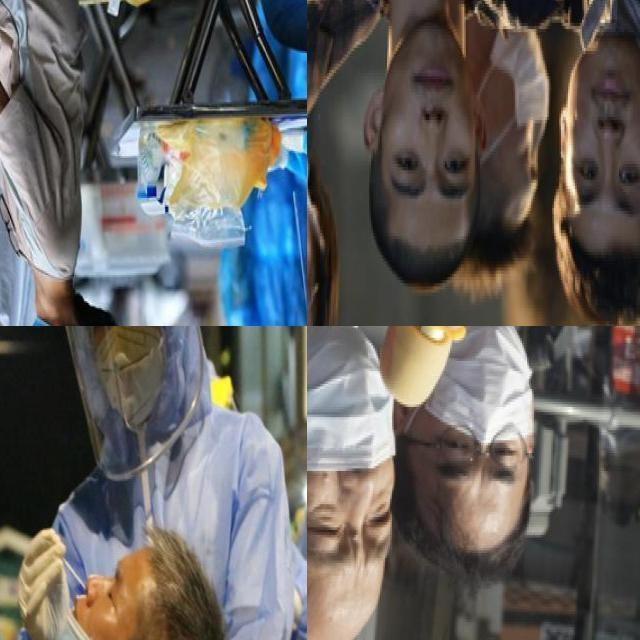hairnet: (306, 326, 395, 510), (57, 558, 115, 639)
no_hairnet: (380, 39, 469, 143), (562, 43, 640, 157)
